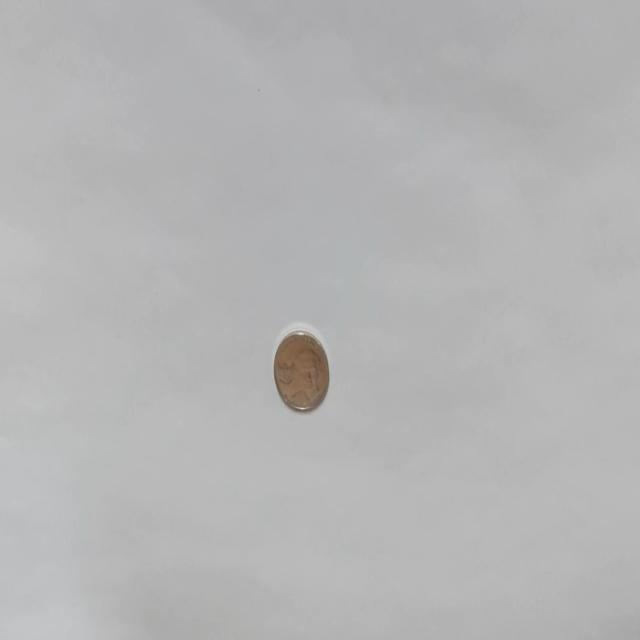seribu rupiah koin: (272, 324, 330, 412)
